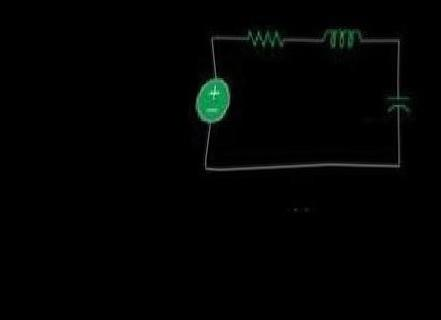Battery: (181, 67, 236, 118)
